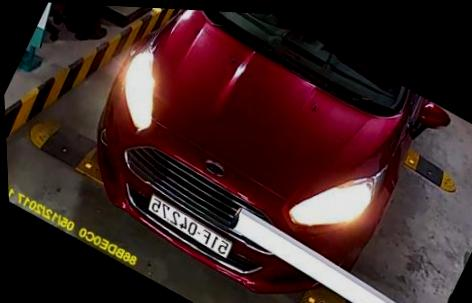License_Plate: (131, 192, 235, 259)
